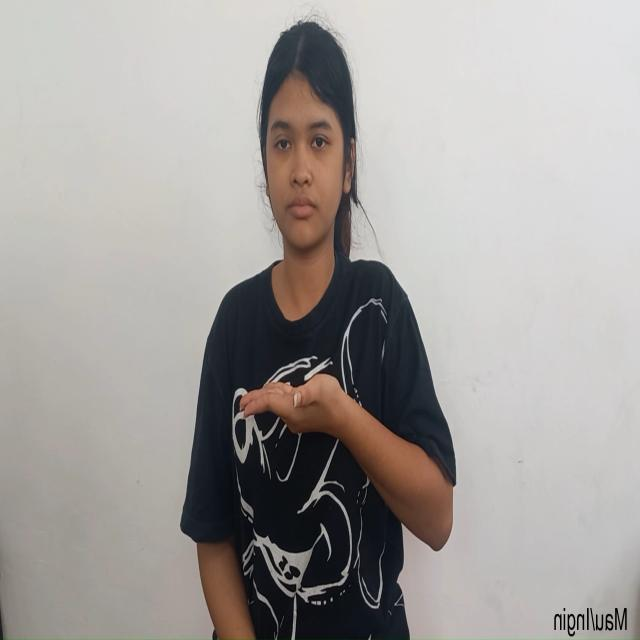Mau-Ingin -BISINDO-: (238, 369, 456, 555)
